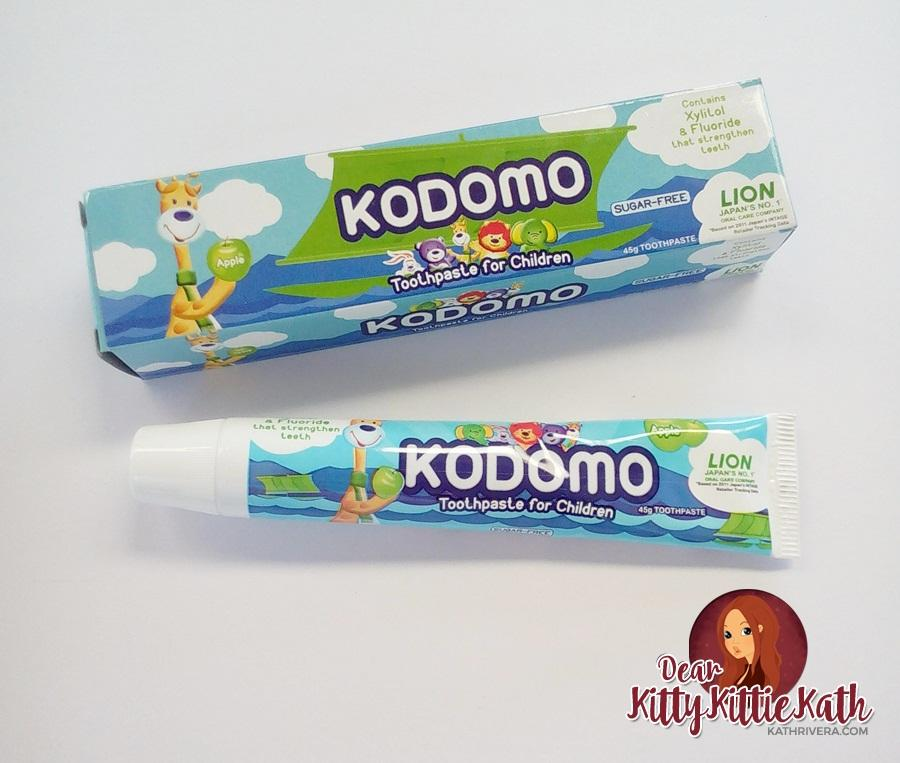toothpaste: (114, 377, 798, 591)
